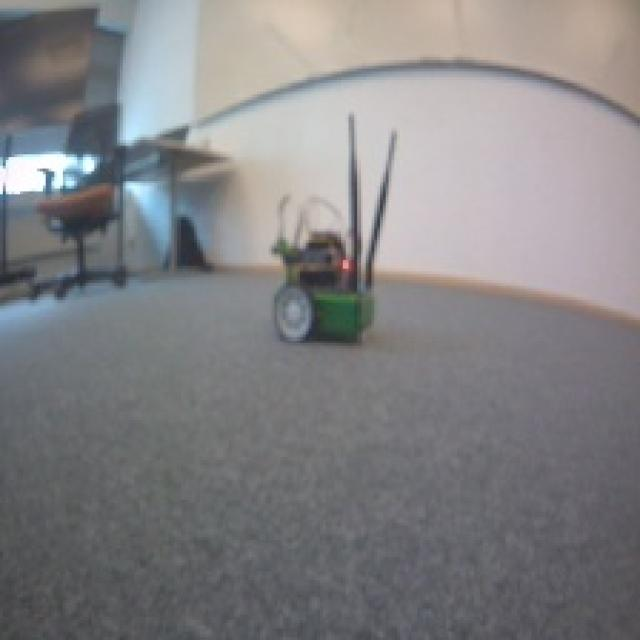robot: (270, 233, 374, 342)
